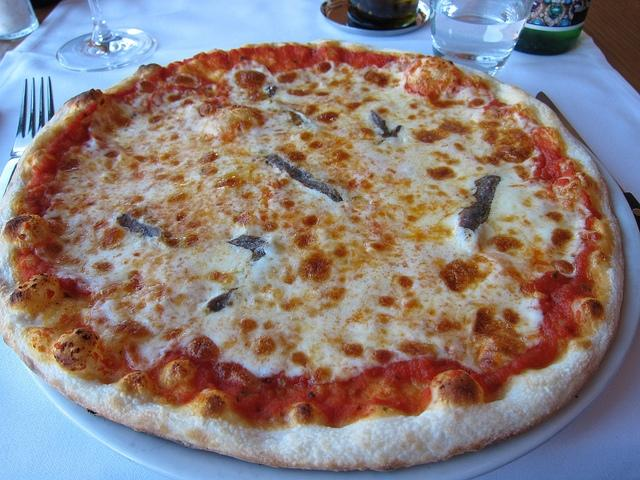mushroom: (264, 154, 344, 202), (458, 176, 501, 232), (118, 212, 162, 238), (228, 235, 268, 261), (371, 109, 402, 138), (207, 287, 239, 312), (287, 110, 303, 126), (265, 85, 277, 98)
